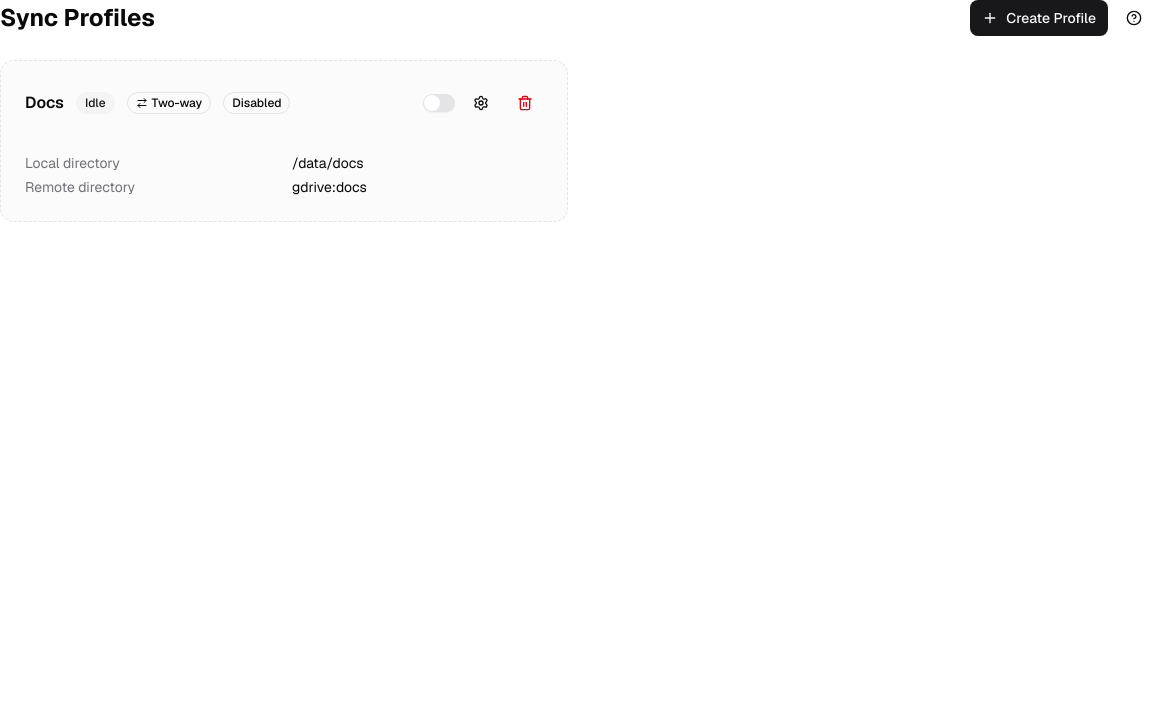
Scenario: ProfilesPage › enable/disable confirmation › while the dialog is open › says a pause holds once the user pauses the profile
The image size is (1152, 720).
Click the switch named "Enable or disable profile Docs". click: click(439, 103)
box: [423,94,455,112]
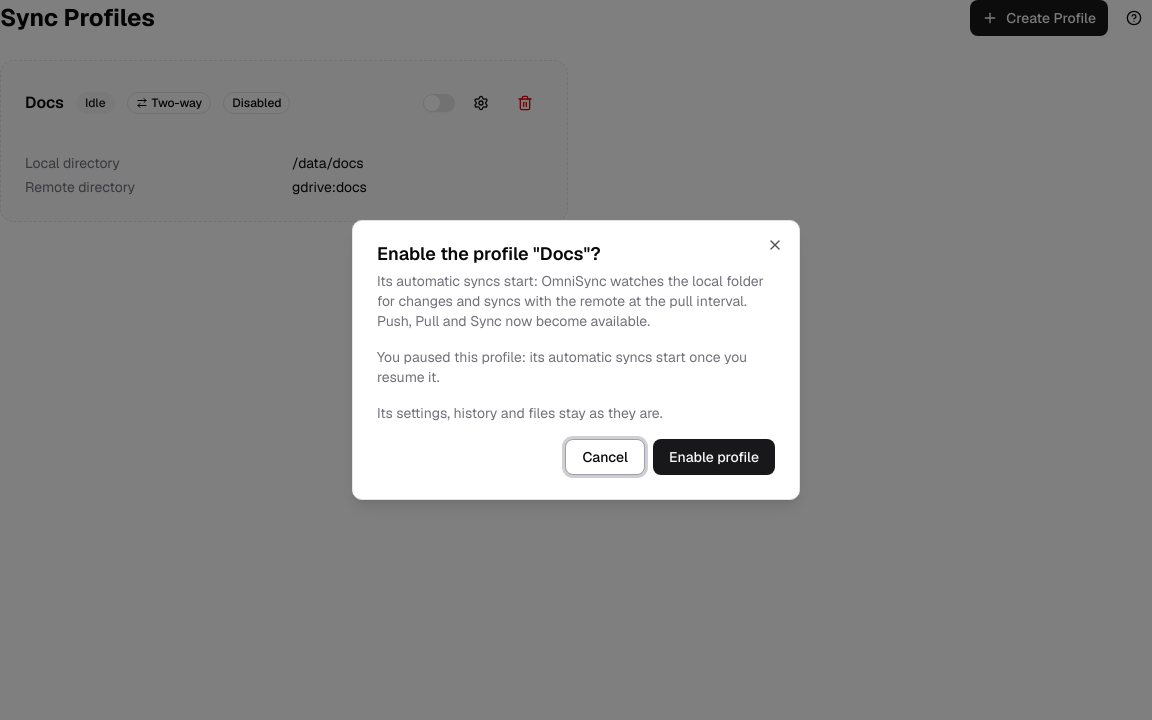
Result: the text "You paused this profile" is shown at [377,348,747,386]
